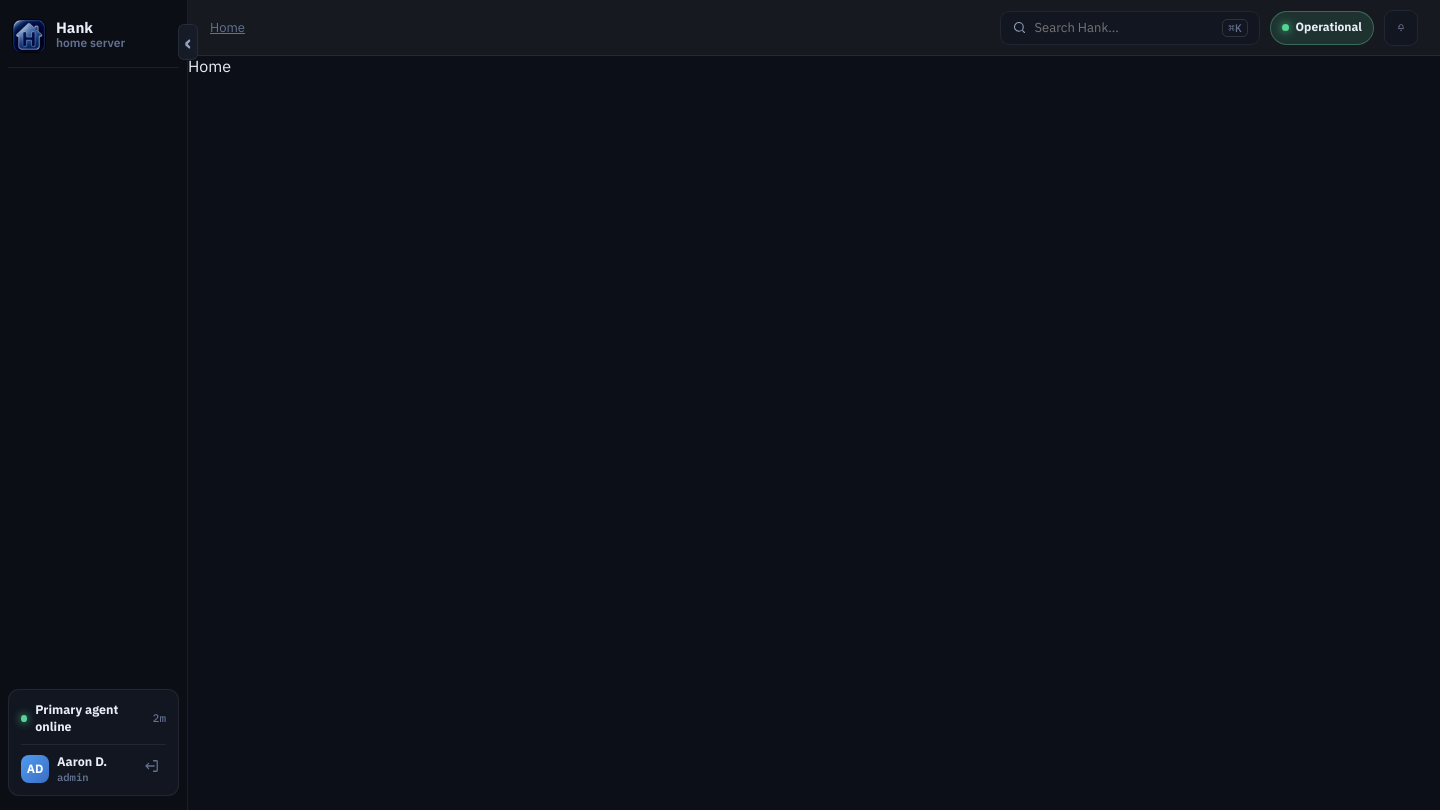
Shell › labels file results as incomplete while the catalog is indexing
Type "invoice" into the search field named "Search".
click(1124, 27); type("invoice")  # box [1034,19,1214,36]
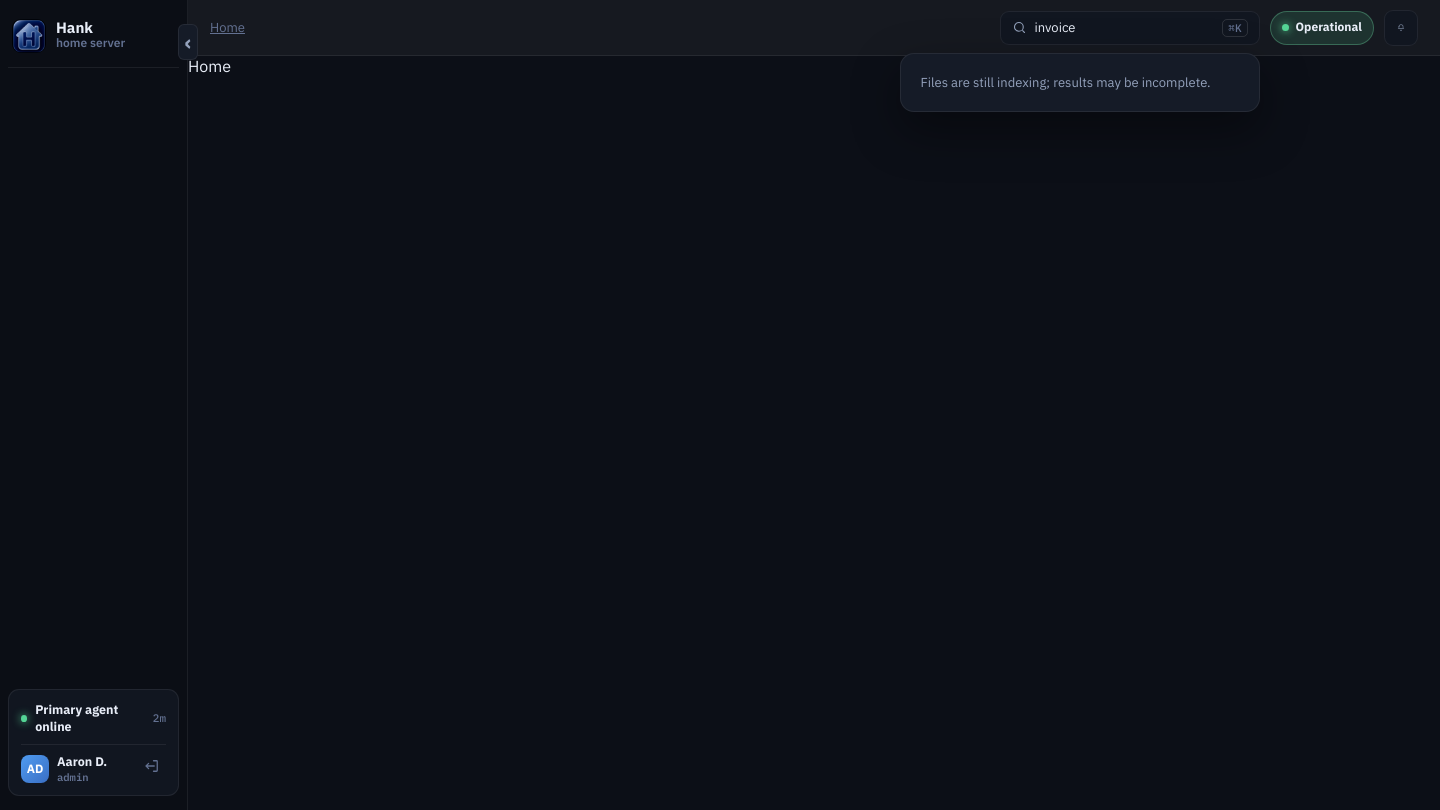
expect the message shows "Files are still indexing": met, box [920,74,1211,90]
